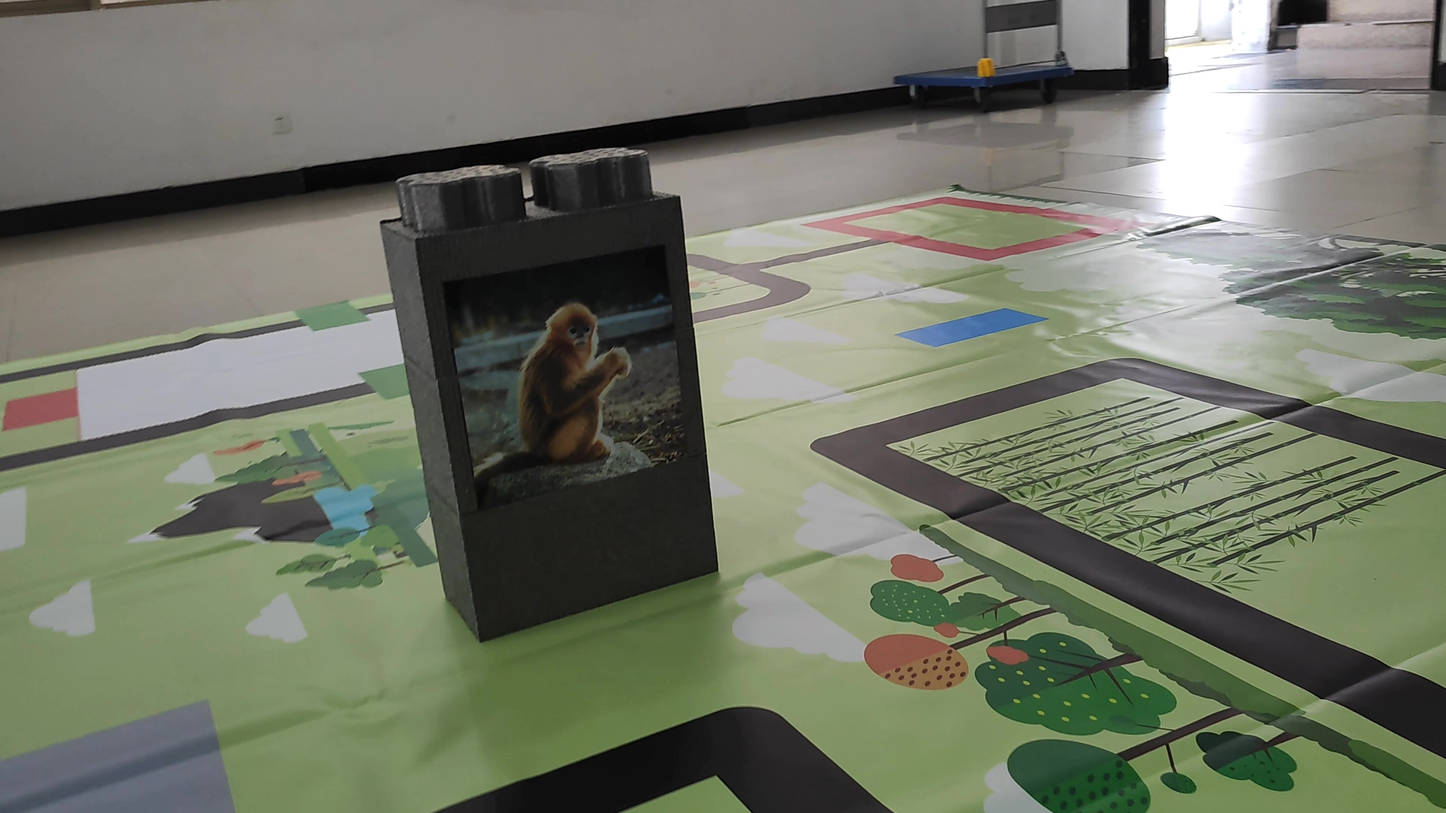monkey: (454, 281, 657, 494)
